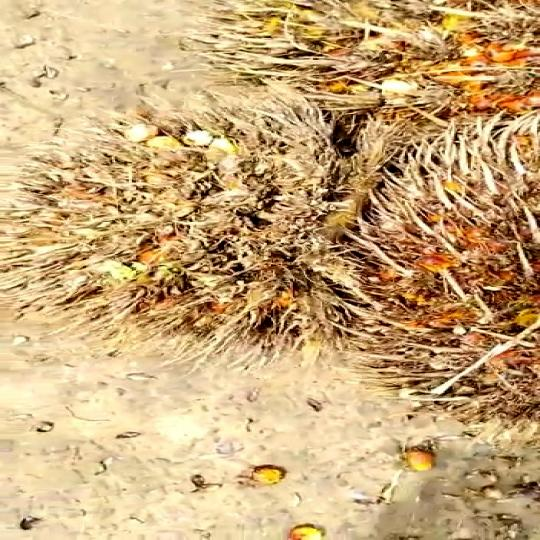terlalu masak: (7, 106, 378, 349)
